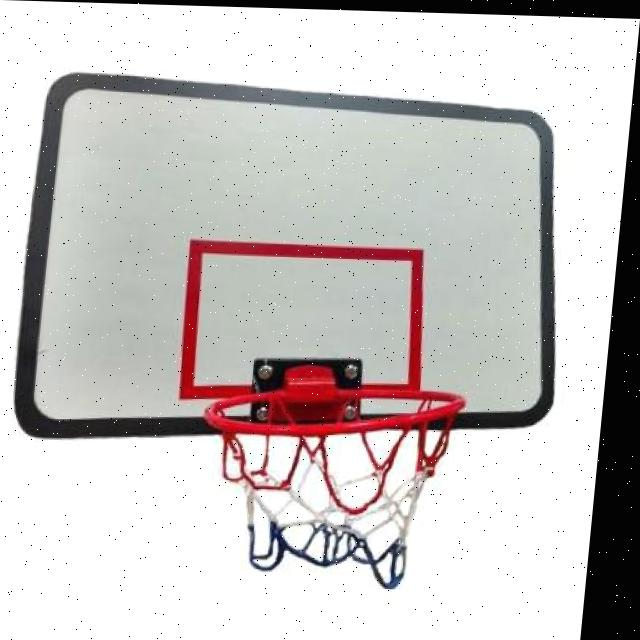hoop: (188, 385, 466, 591)
